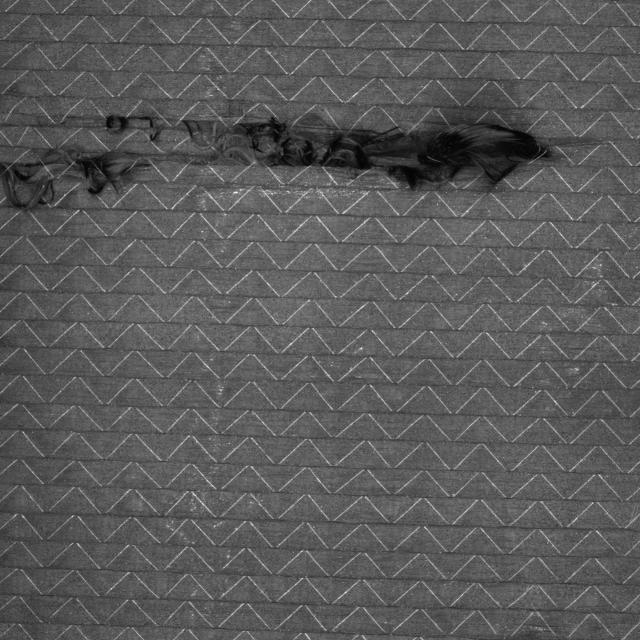carbon-fibre-defect: (0, 97, 573, 216)
